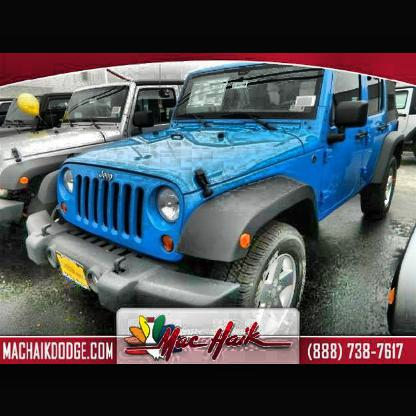Jeep Wrangler SUV 2012: (24, 66, 409, 342)
